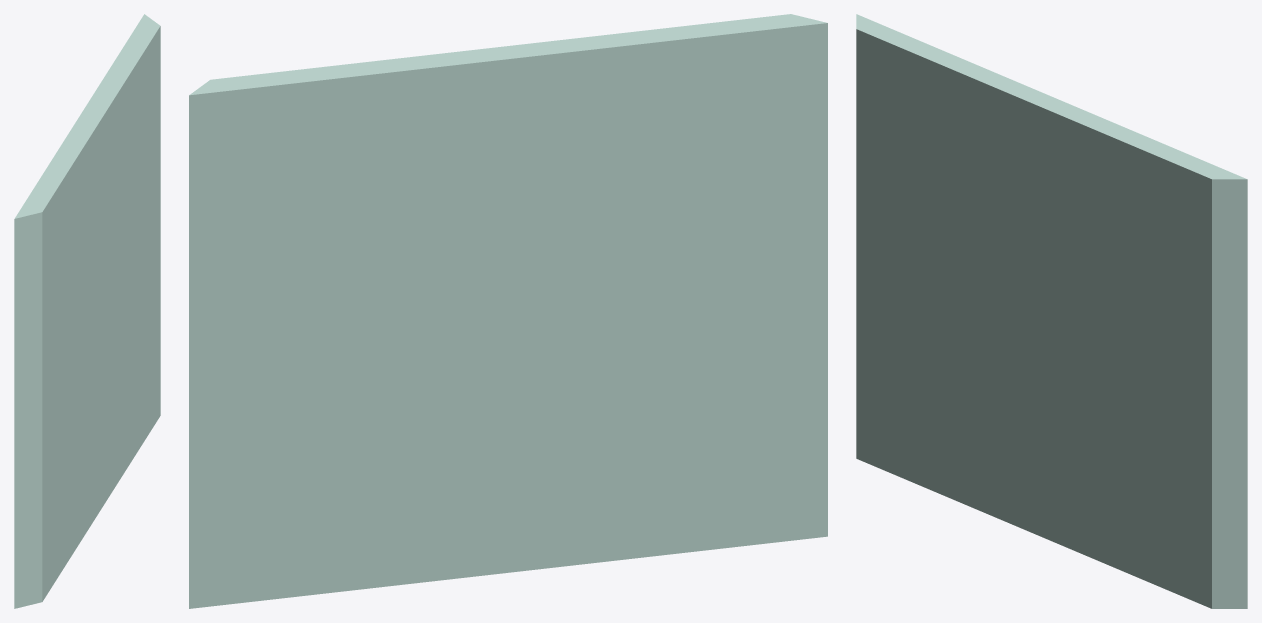
The model's file is Corner_Tile.fbx.
3 views of the same model, side by side, from view 1: azimuth 30°, elevation 25°; view 2: azimuth 150°, elevation 25°; view 3: azimuth 270°, elevation 25° (orthographic). The views are drawn at different scales.
Parts seen in each view (by area): view 1: polySurface69; view 2: polySurface69; view 3: polySurface69.
Boxes of the visible parts, box(x1,y1,x2,y2) form: polySurface69: box(14, 14, 160, 608); polySurface69: box(189, 14, 827, 608); polySurface69: box(856, 14, 1247, 608).
Size of the model in its own units: 3.3 by 4 by 3.3.
